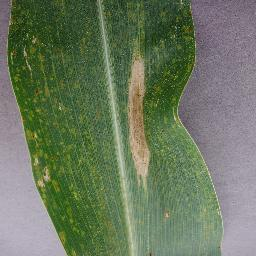Corn_Blight: (119, 39, 156, 200), (9, 0, 46, 118), (25, 120, 62, 203), (170, 0, 201, 93), (56, 227, 78, 256), (154, 203, 177, 223), (52, 98, 64, 114)
